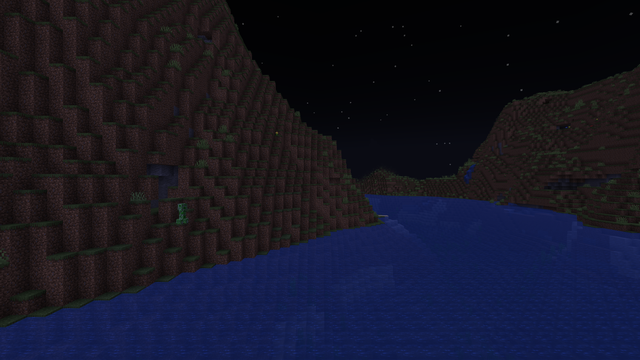creepers: (176, 202, 187, 223)
